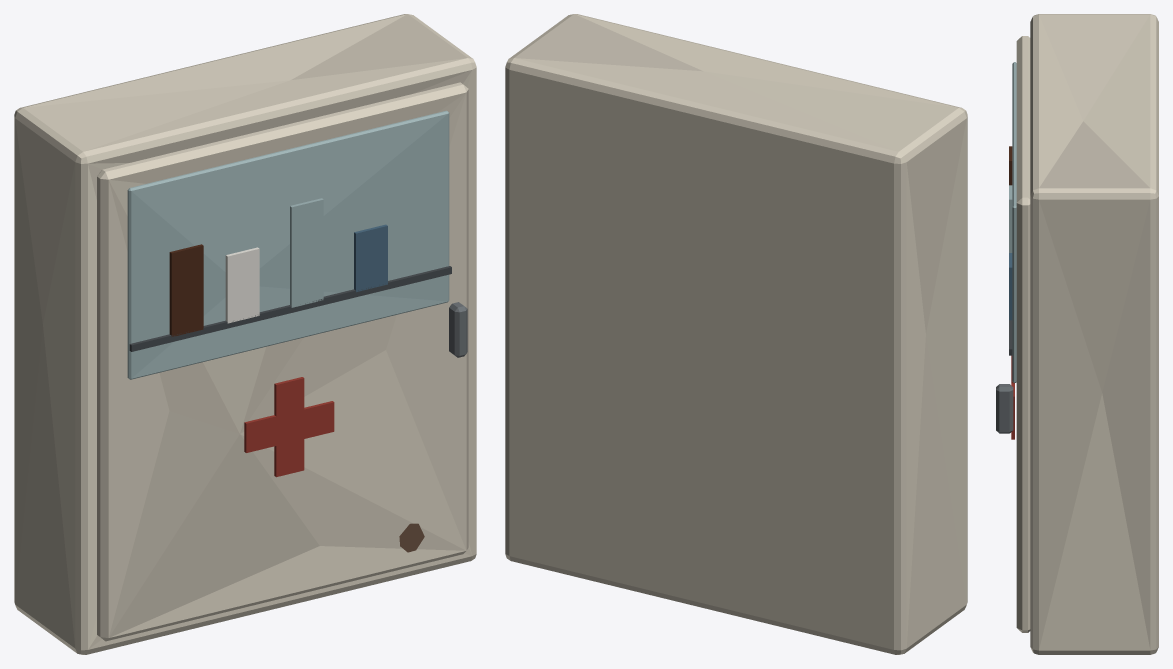
The model's file is medicine_cabinet_medpunkt_idle.glb.
The picture shows the model from 3 angles, left to right: view 1: azimuth 30°, elevation 25°; view 2: azimuth 150°, elevation 25°; view 3: azimuth 270°, elevation 25°; orthographic projection. The views are drawn at different scales.
Visible parts, largest first — view 1: medicine_cabinet_medpunkt_idle; view 2: medicine_cabinet_medpunkt_idle; view 3: medicine_cabinet_medpunkt_idle.
Boxes of the visible parts, x1,y1,x2,y2 form: medicine_cabinet_medpunkt_idle: (14,14,476,654); medicine_cabinet_medpunkt_idle: (505,14,967,654); medicine_cabinet_medpunkt_idle: (996,14,1158,654).
Size of the model in its own units: 0.5 by 0.6 by 0.19.
Materials: 1 (1 with a texture image).
